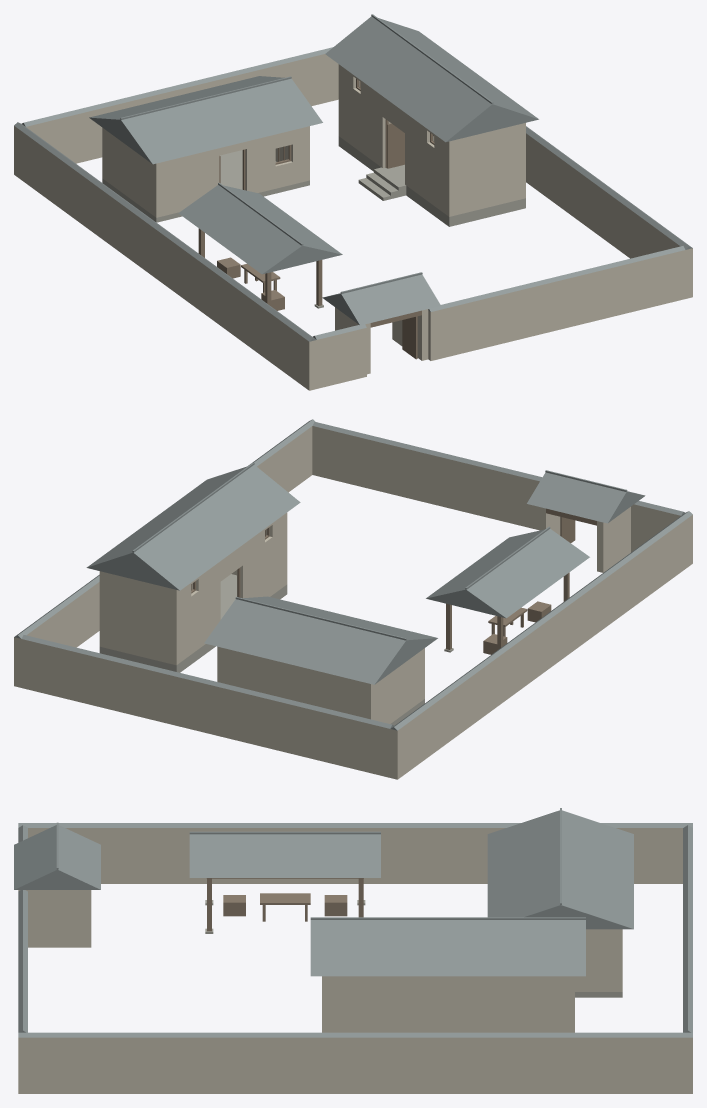
Rendered from C02-018.local-roundtrip.glb.
3 renders of one model, top to bottom at view 1: azimuth 30°, elevation 25°; view 2: azimuth 150°, elevation 25°; view 3: azimuth 270°, elevation 25°, orthographic. The views are drawn at different scales.
Visible parts, largest first — view 1: architecture_C_whitebox_earth_wall, architecture_C_roof_rhythm_not_glaze_copy, architecture_C_floor_plinth, architecture_C_plain_timber; view 2: architecture_C_whitebox_earth_wall, architecture_C_roof_rhythm_not_glaze_copy, architecture_C_plain_timber, architecture_C_floor_plinth; view 3: architecture_C_whitebox_earth_wall, architecture_C_roof_rhythm_not_glaze_copy, architecture_C_plain_timber.
Boxes of the visible parts, left/top/right/bottom form: architecture_C_whitebox_earth_wall: left=14, top=54, right=692, bottom=390; architecture_C_roof_rhythm_not_glaze_copy: left=14, top=14, right=692, bottom=341; architecture_C_floor_plinth: left=102, top=136, right=525, bottom=308; architecture_C_plain_timber: left=198, top=78, right=434, bottom=359; architecture_C_whitebox_earth_wall: left=14, top=426, right=692, bottom=779; architecture_C_roof_rhythm_not_glaze_copy: left=14, top=419, right=692, bottom=730; architecture_C_plain_timber: left=191, top=508, right=596, bottom=654; architecture_C_floor_plinth: left=99, top=574, right=453, bottom=725; architecture_C_whitebox_earth_wall: left=18, top=828, right=692, bottom=1093; architecture_C_roof_rhythm_not_glaze_copy: left=14, top=808, right=692, bottom=1037; architecture_C_plain_timber: left=206, top=878, right=363, bottom=931.
Size of the model in its own units: 18 by 5.32 by 24.15.
